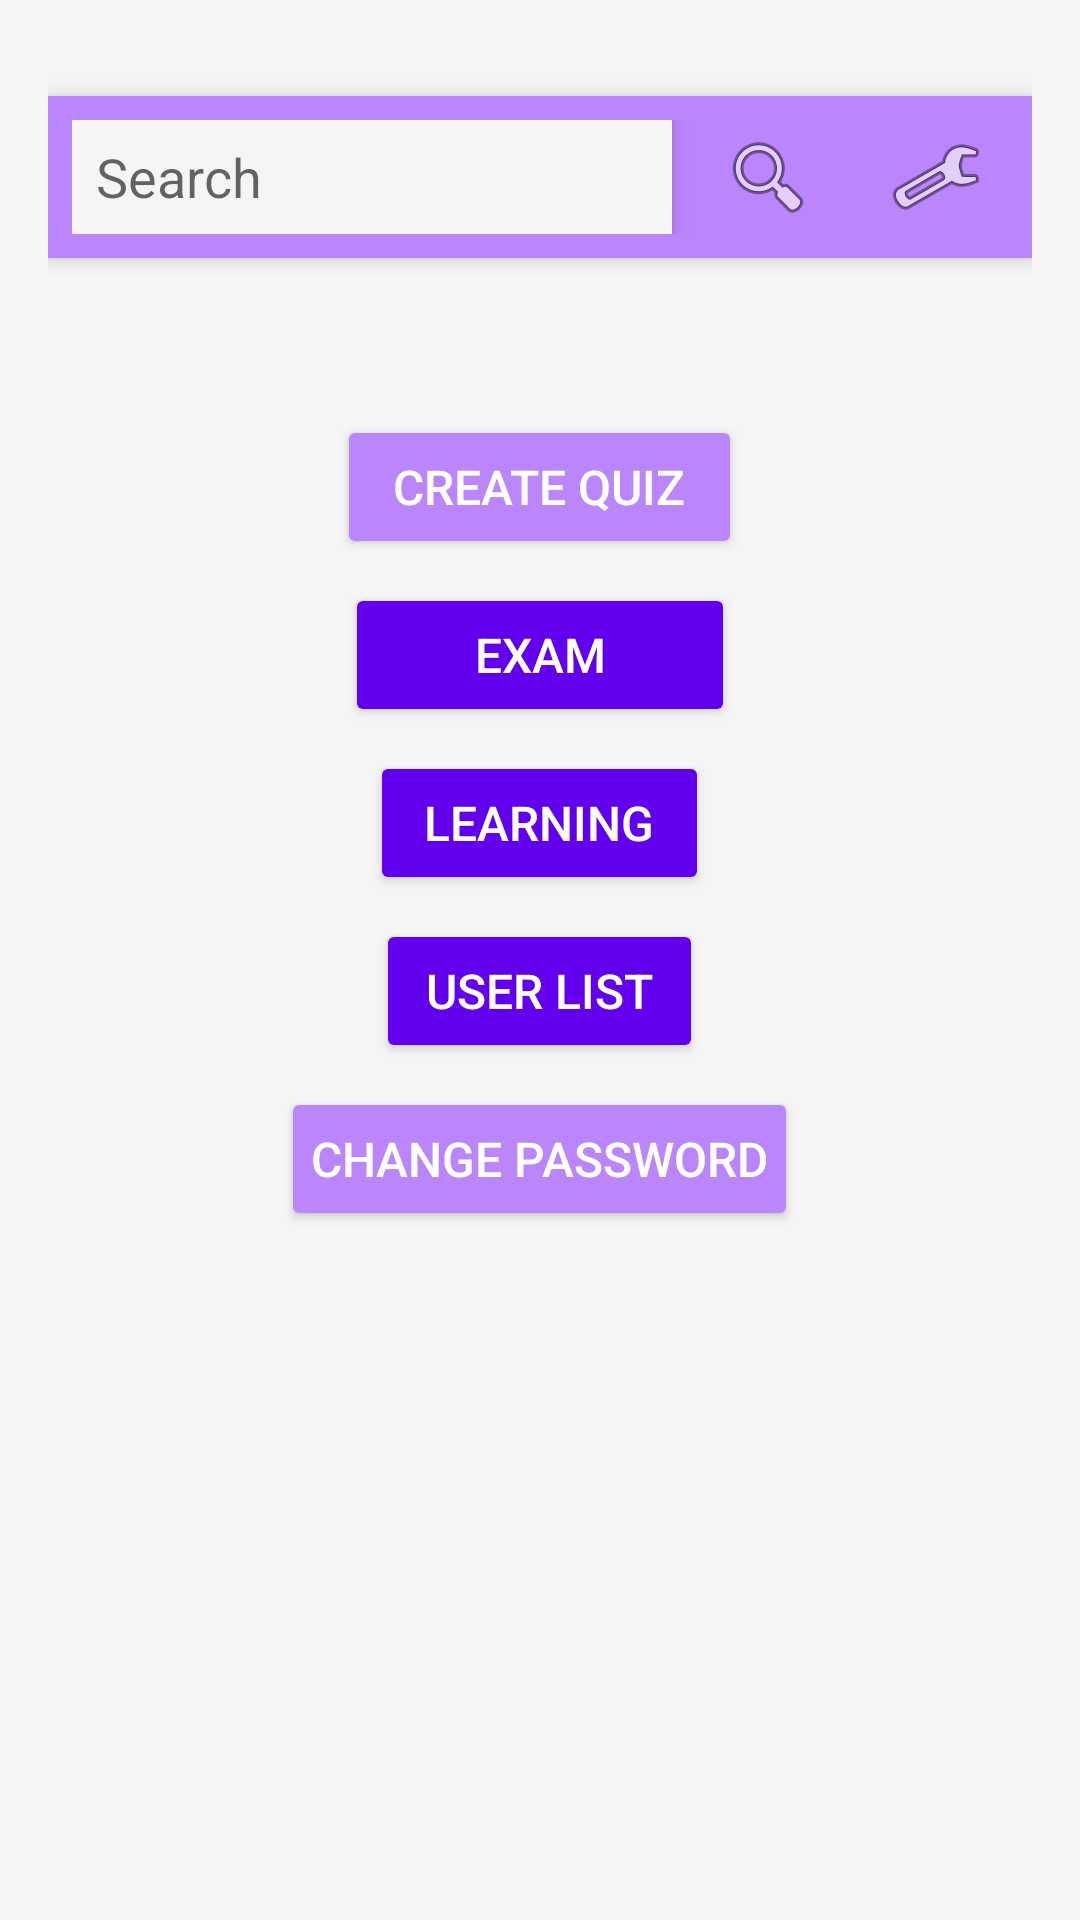

Icon bounding boxes for this 1080px x 1920px phone screenshot, format BBox(x1, y1, x2, y2):
Settings: BBox(893, 144, 979, 210)
